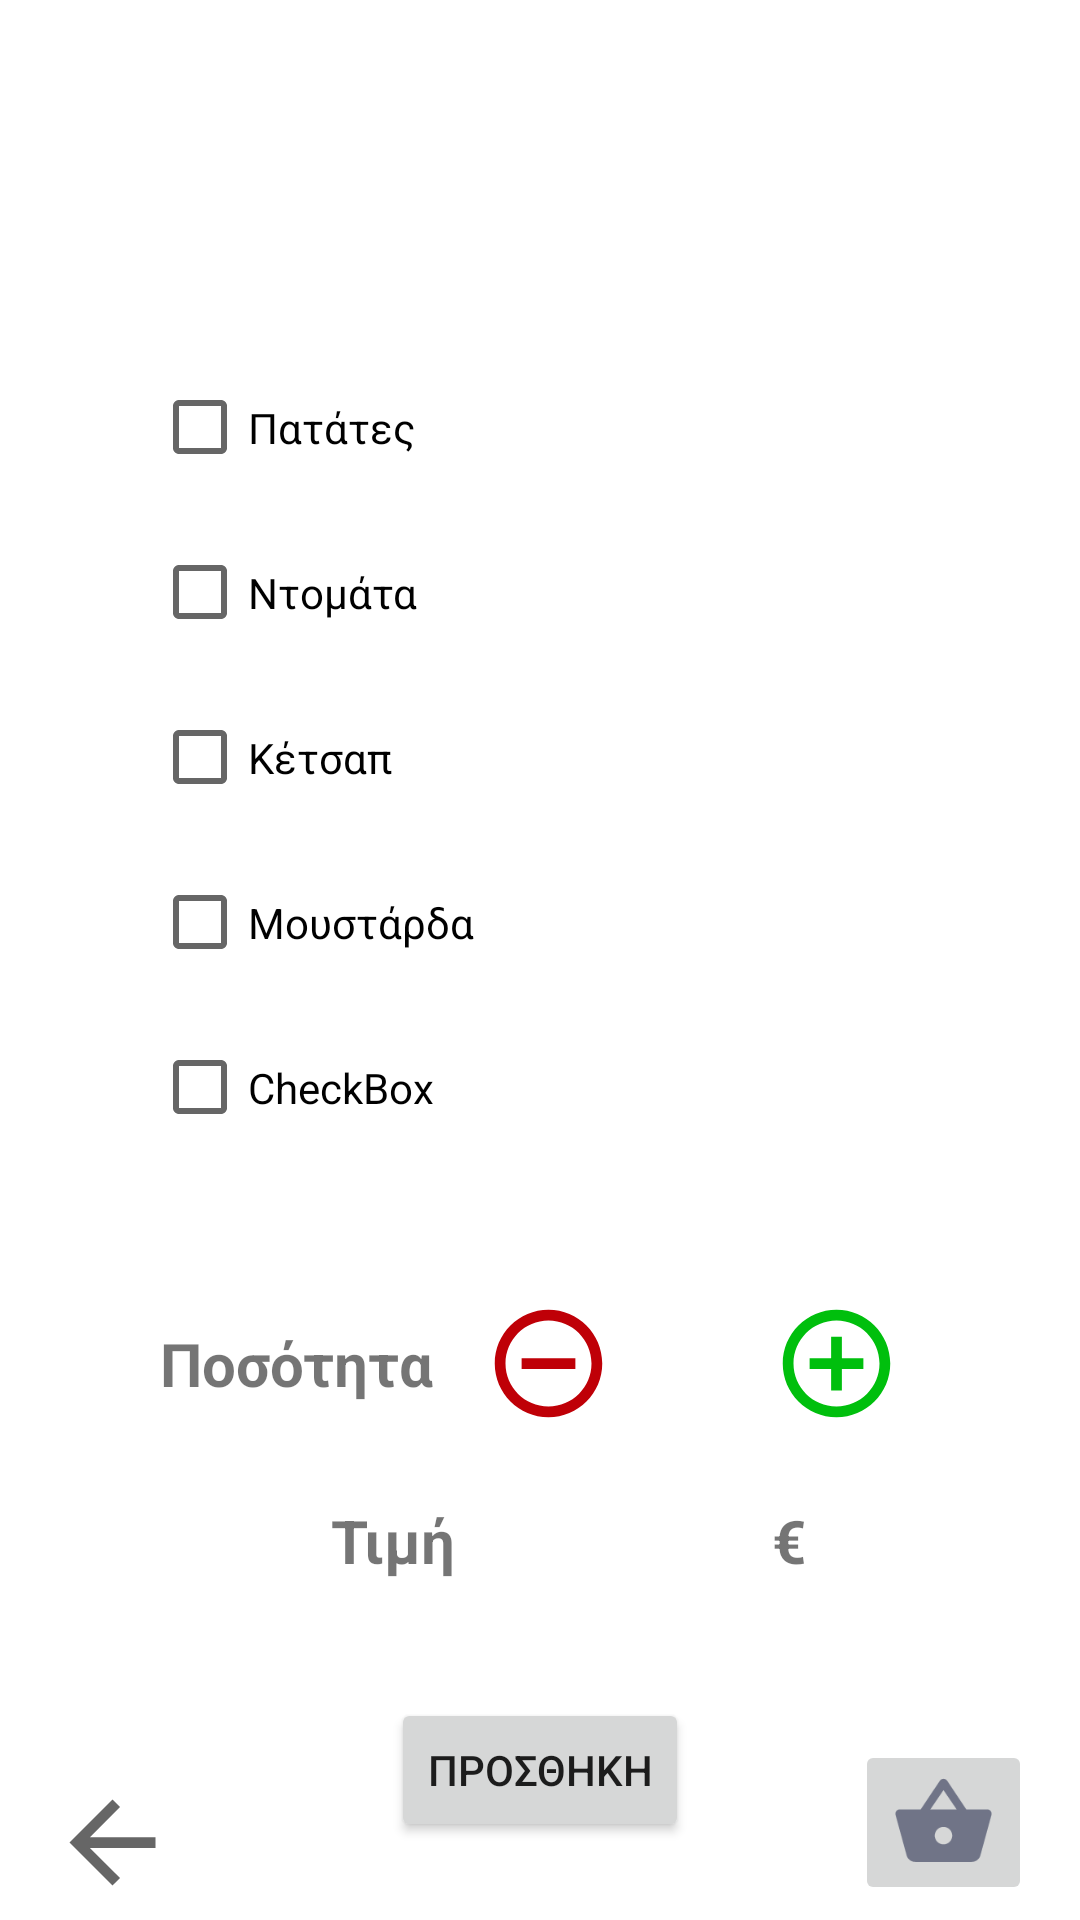

Screen size 1080px x 1920px. Icon name, then its box in pixels as [x1=x1, y1=y1, x2=x2, y2=y2]:
add circle: [x1=782, y1=1309, x2=891, y2=1418]
remove circle: [x1=494, y1=1309, x2=603, y2=1418]
shopping basket: [x1=867, y1=1758, x2=1020, y2=1887]
